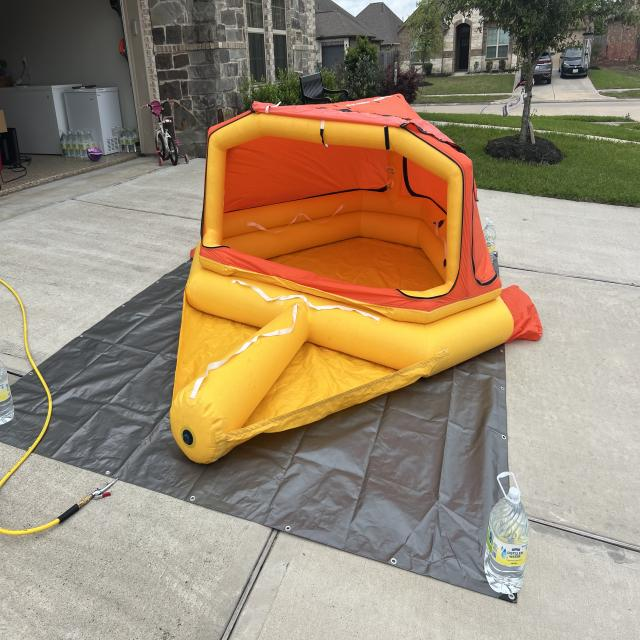Multi-person_life_raft: (170, 94, 544, 466)
